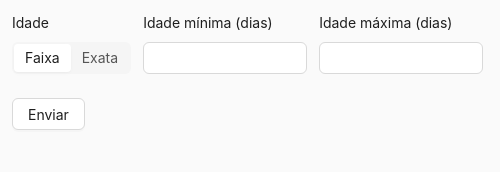
Test: CampoDeIdade › cada número tem a sua mensagem, ligada a ele pelo aria-describedby
The width and height of the screenshot is (500, 172).
Type "10" into the number field labelled "Idade mínima (dias)". click: (225, 58)
box: top-left (144, 43), bottom-right (306, 73)
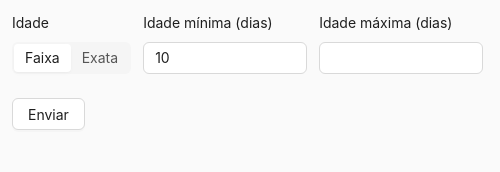
Click the button "Enviar". click: (48, 114)
box: top-left (12, 98), bottom-right (85, 130)
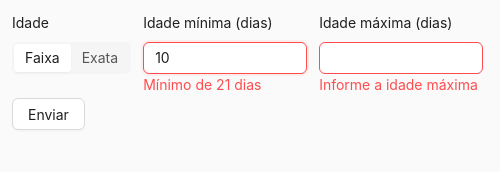
Now the text "Mínimo de 21 dias" is shown, box top-left (143, 76), bottom-right (262, 93)
Now the text "Informe a idade máxima" is shown, box top-left (319, 74), bottom-right (483, 96)
